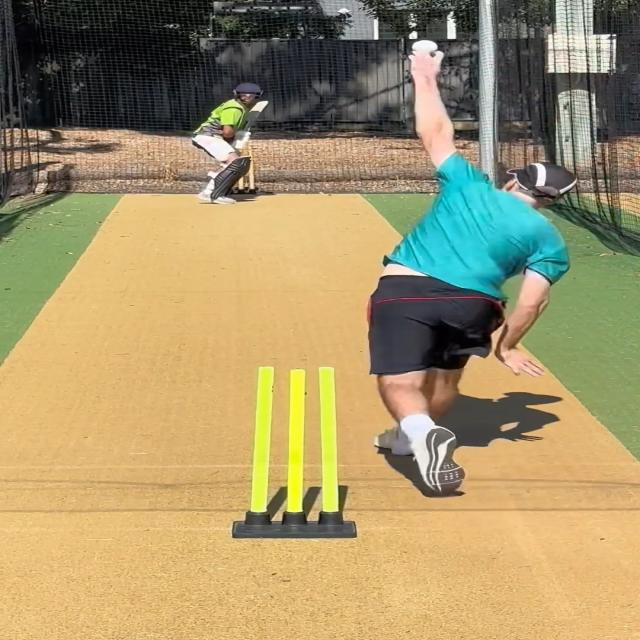ball: (407, 36, 443, 58)
stump: (231, 360, 357, 540)
